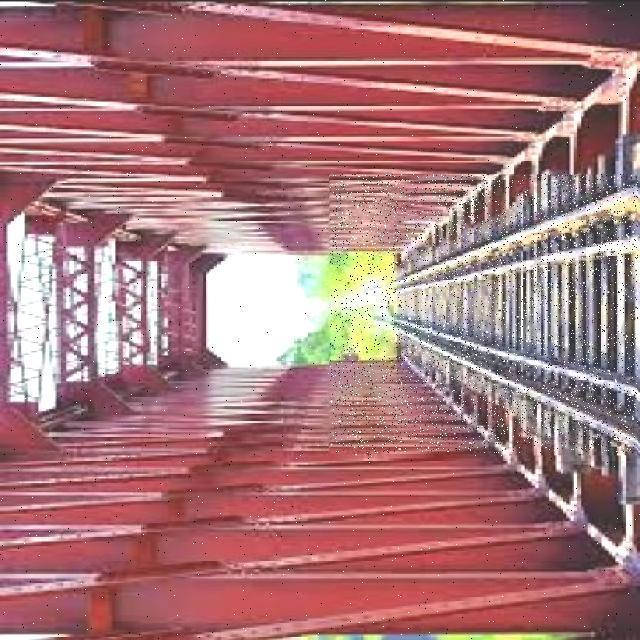rail: (332, 176, 639, 454)
